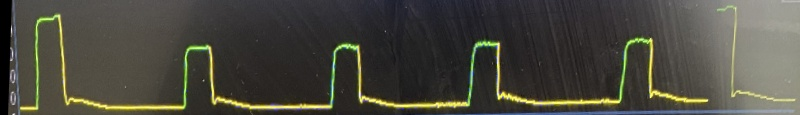normal_pressure: (28, 29, 722, 115)
